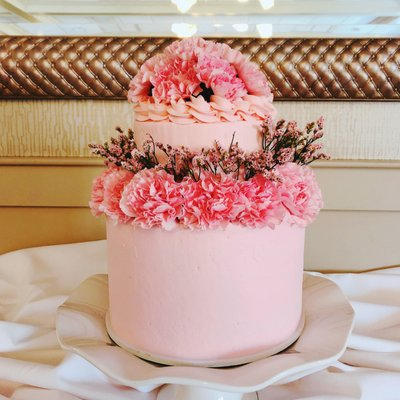taco: (0, 234, 371, 399)
